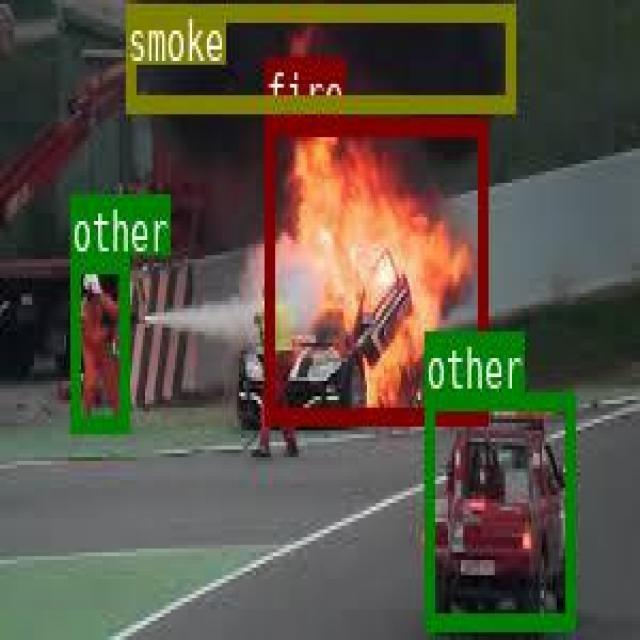fire: (265, 118, 485, 420)
smoke: (125, 2, 514, 108)
